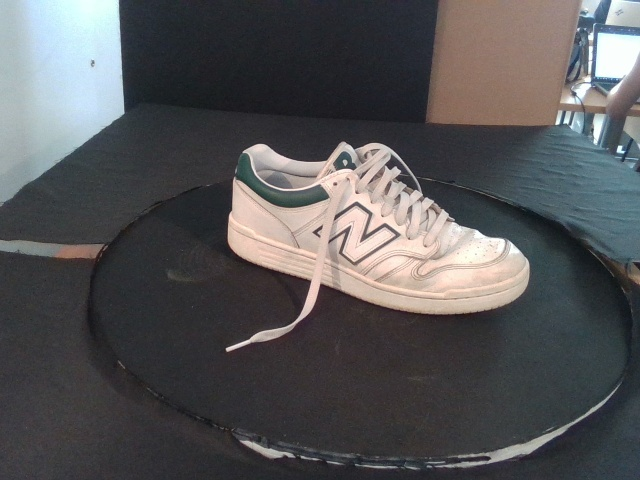shoe: (226, 139, 530, 316)
